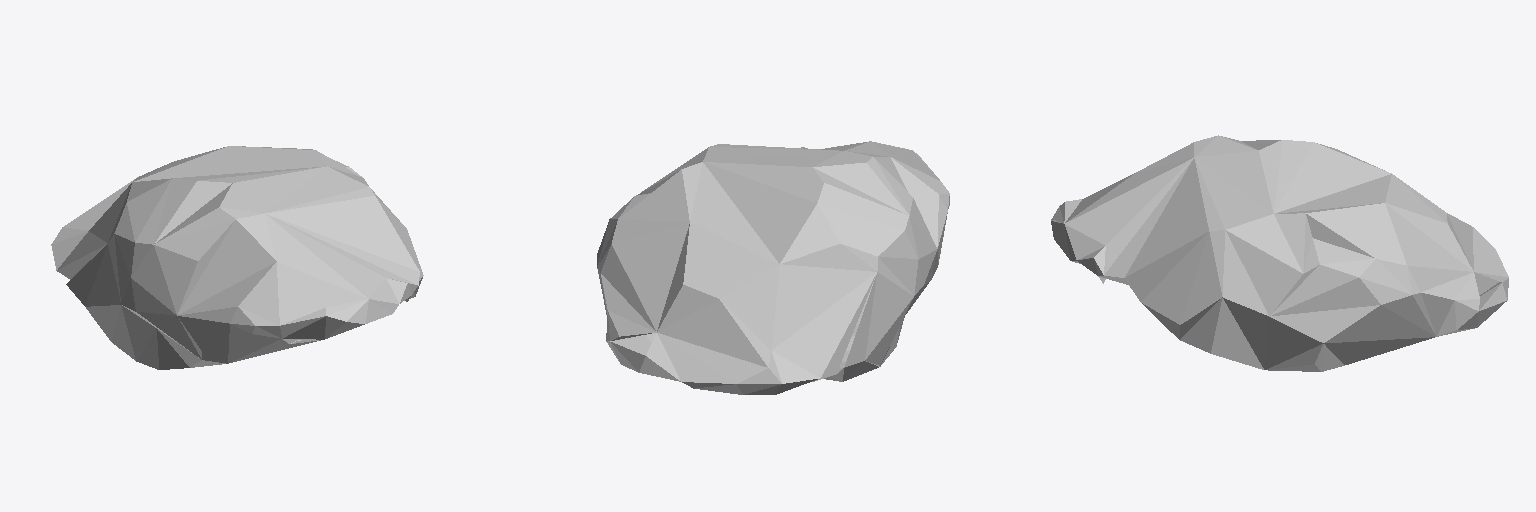
Rendered from RightPatella.obj.
The picture shows the model from 3 angles: view 1: azimuth 30°, elevation 25°; view 2: azimuth 150°, elevation 25°; view 3: azimuth 270°, elevation 25°; orthographic projection.
Parts seen in each view (by area): view 1: grp9; view 2: grp9; view 3: grp9.
Part boxes in pixels (left/top/right/bottom): grp9: left=51, top=146, right=423, bottom=369; grp9: left=597, top=141, right=949, bottom=394; grp9: left=1051, top=135, right=1508, bottom=371.
Size of the model in its own units: 0.0285 by 0.0172 by 0.0402.